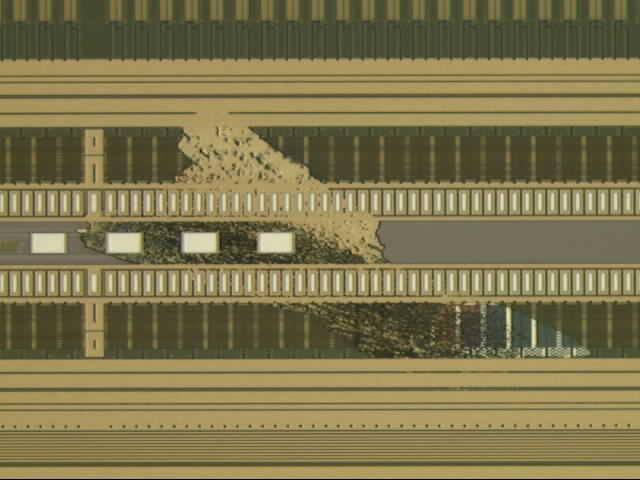BLOCK ETCH: (82, 102, 592, 361)
